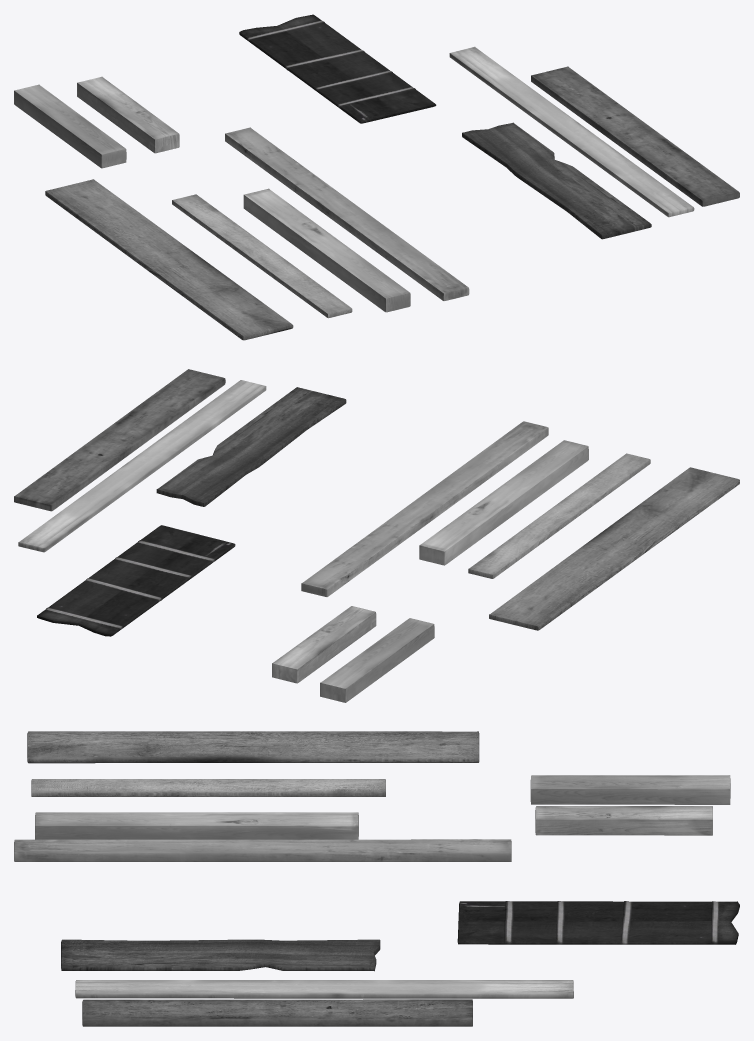
Rendered from boards04.fbx.
The picture shows the model from 3 angles, top to bottom: view 1: azimuth 30°, elevation 25°; view 2: azimuth 150°, elevation 25°; view 3: azimuth 270°, elevation 25°; orthographic projection. The views are drawn at different scales.
Visible parts, largest first — view 1: Boards, Boards9, Boards8, Boards3, Boards4, Boards5, Boards2, Boards1, Boards6, Boards7; view 2: Boards, Boards9, Boards8, Boards3, Boards4, Boards5, Boards2, Boards1, Boards6, Boards7; view 3: Boards, Boards9, Boards3, Boards8, Boards4, Boards5, Boards2, Boards1, Boards6, Boards7.
Part boxes in pixels (x1,y1,x2,y2): Boards: [45, 179, 293, 340]; Boards9: [239, 14, 436, 123]; Boards8: [531, 66, 739, 206]; Boards3: [225, 127, 469, 300]; Boards4: [462, 122, 651, 239]; Boards5: [449, 46, 694, 217]; Boards2: [243, 188, 410, 312]; Boards1: [172, 194, 352, 318]; Boards6: [14, 84, 126, 168]; Boards7: [77, 76, 179, 153]; Boards: [489, 467, 739, 630]; Boards9: [37, 525, 235, 636]; Boards8: [14, 369, 225, 511]; Boards3: [301, 421, 548, 596]; Boards4: [156, 387, 346, 506]; Boards5: [18, 380, 266, 552]; Boards2: [419, 440, 588, 565]; Boards1: [468, 453, 650, 578]; Boards6: [320, 618, 434, 702]; Boards7: [272, 606, 376, 683]; Boards: [27, 731, 479, 763]; Boards9: [457, 901, 739, 944]; Boards3: [14, 839, 511, 861]; Boards8: [82, 999, 472, 1026]; Boards4: [61, 939, 380, 971]; Boards5: [75, 980, 573, 998]; Boards2: [35, 812, 358, 839]; Boards1: [31, 779, 385, 796]; Boards6: [530, 775, 730, 804]; Boards7: [535, 806, 712, 835].
Bounding box in the file's own units: 36.2 × 0.9912 × 38.45.
